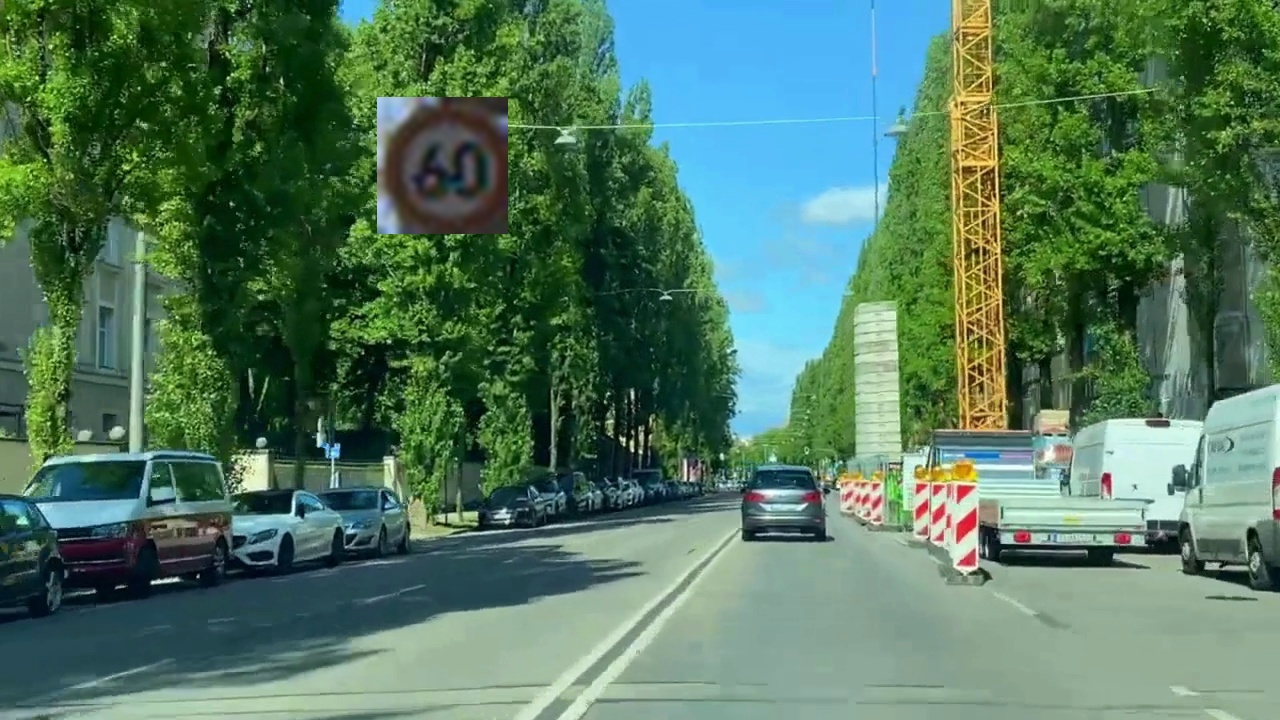Speed 60: (377, 97, 508, 234)
